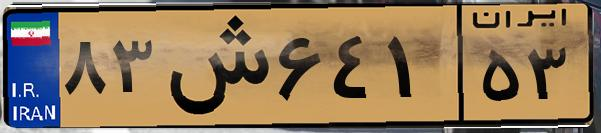1: (385, 28, 445, 110)
3: (525, 38, 570, 115), (110, 28, 158, 98)
4: (330, 28, 385, 110)
5: (475, 38, 525, 113)
6: (270, 28, 330, 110)
8: (57, 26, 110, 100)
ش: (158, 12, 270, 120)
